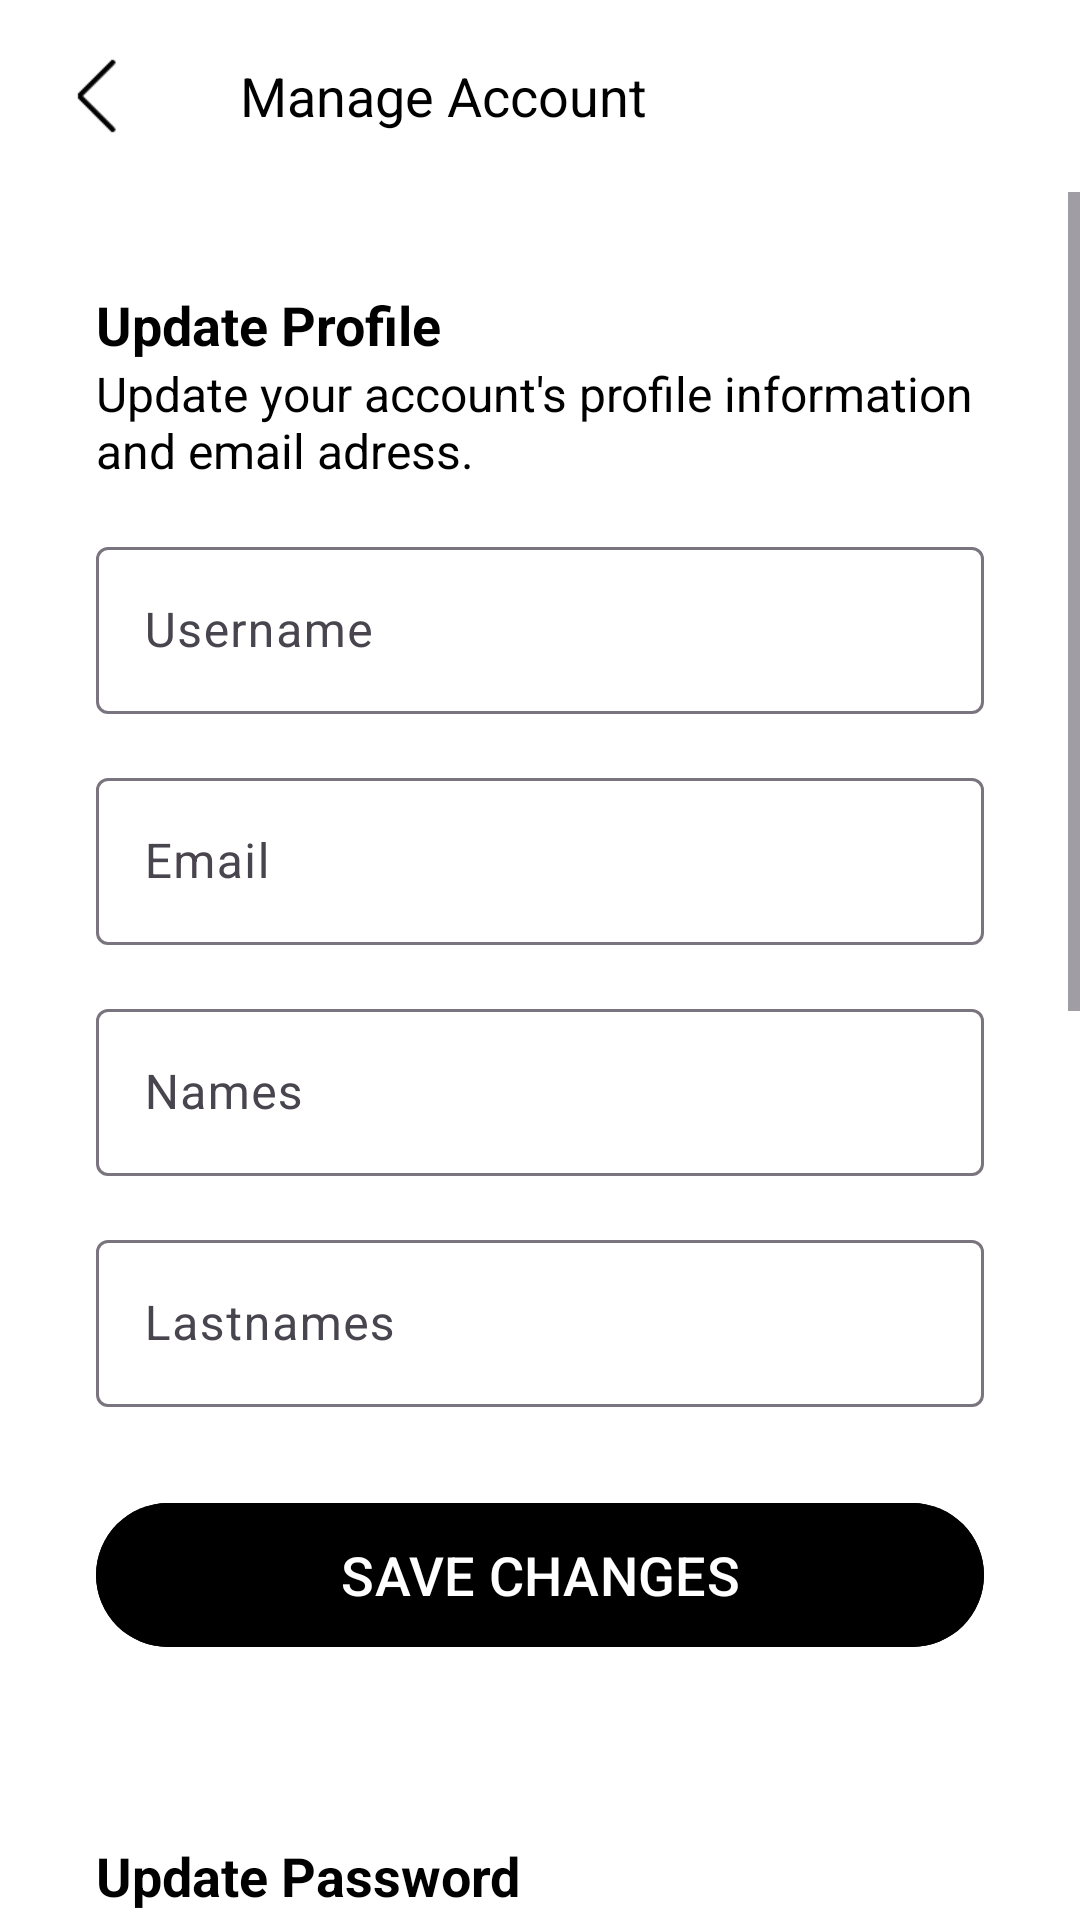

Screen size 1080w x 1920h. Icon name, then its center in pixels as point (x, y):
arrow back: point (96, 96)
